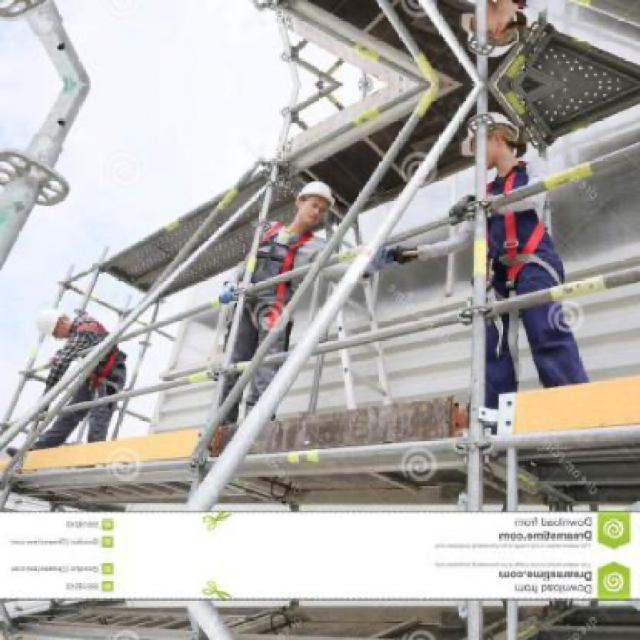helmet: (458, 106, 522, 176), (459, 0, 523, 62), (292, 174, 336, 226), (36, 305, 72, 340)
